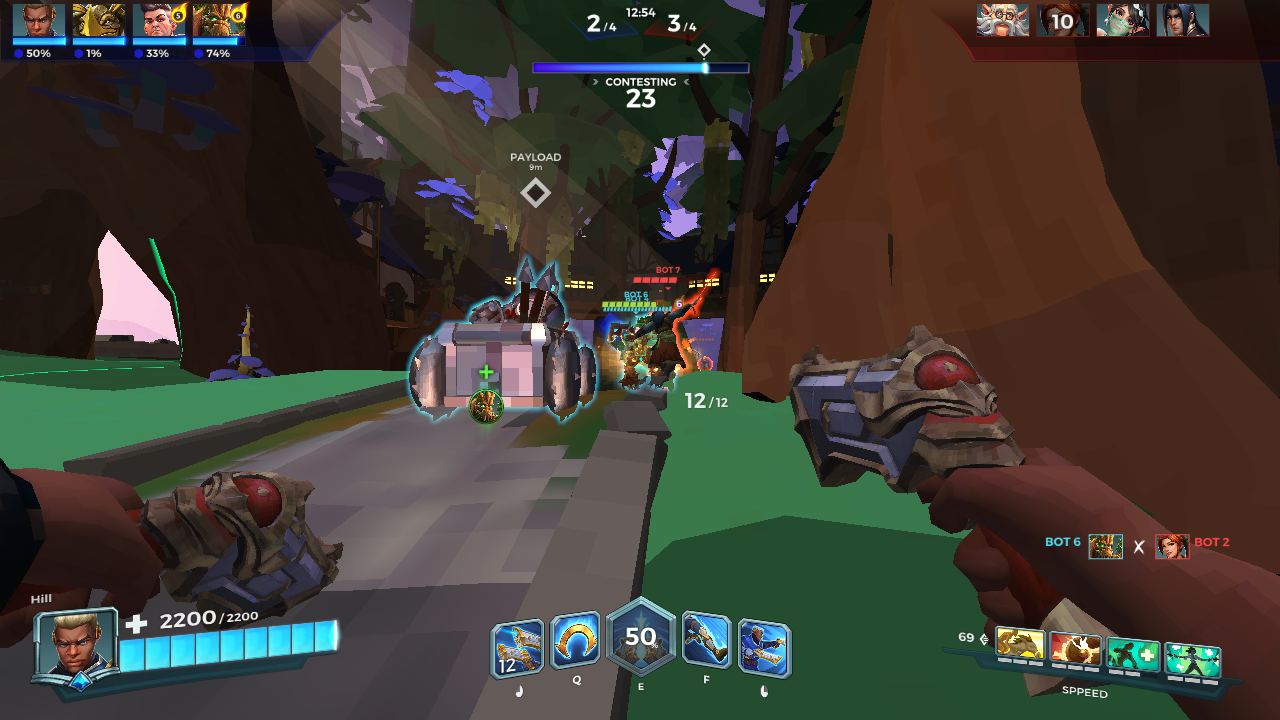model: (640, 288, 680, 387)
